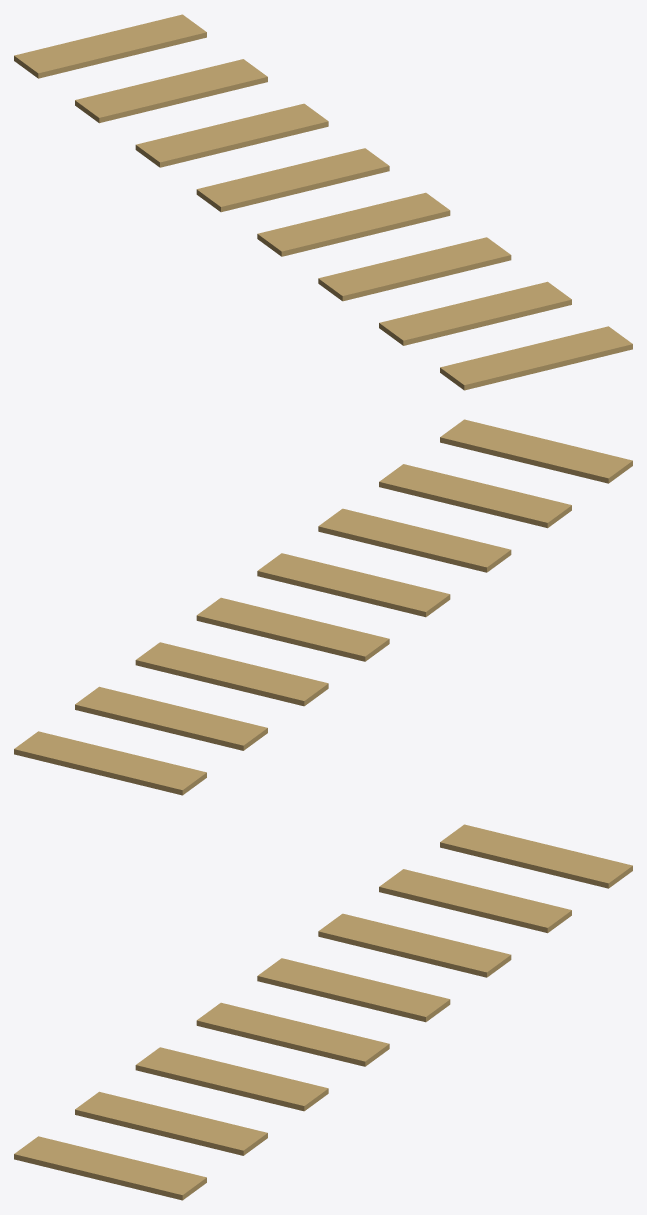
The model's file is Transit_Walk_W2_AccessibleRamp_4m_Tactile.glb.
3 renders of one model, top to bottom at view 1: azimuth 30°, elevation 25°; view 2: azimuth 150°, elevation 25°; view 3: azimuth 330°, elevation 25°, orthographic.
Visible parts, largest first — view 1: Transit_Walk_W2_AccessibleRamp_4m_Tactile; view 2: Transit_Walk_W2_AccessibleRamp_4m_Tactile; view 3: Transit_Walk_W2_AccessibleRamp_4m_Tactile.
Boxes of the visible parts, x1,y1,x2,y2 form: Transit_Walk_W2_AccessibleRamp_4m_Tactile: (14,14,632,390); Transit_Walk_W2_AccessibleRamp_4m_Tactile: (14,419,632,795); Transit_Walk_W2_AccessibleRamp_4m_Tactile: (14,824,632,1200).
Bounding box in the file's own units: 0.4 × 0.012 × 1.85.
